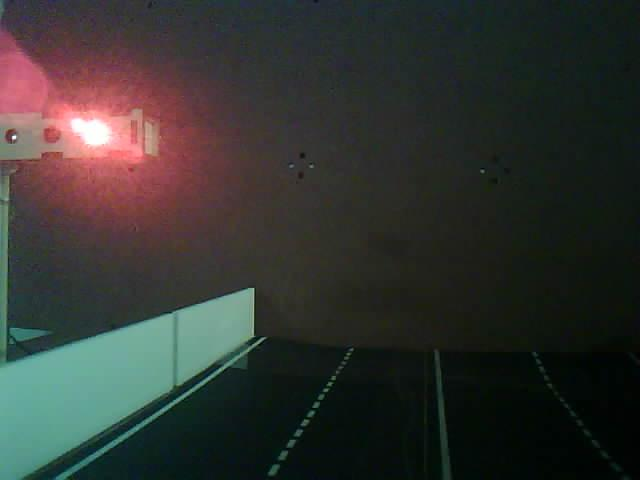red: (0, 18, 263, 231)
